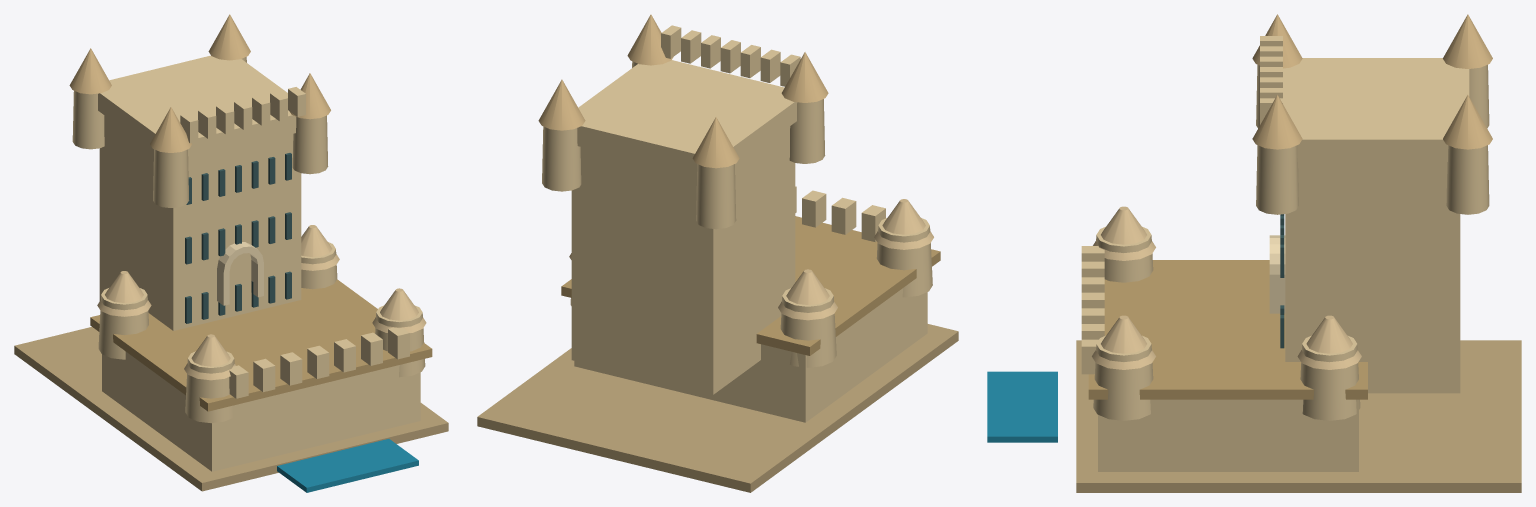
Rendered from belem-tower.glb.
The picture shows the model from 3 angles, left to right: view 1: azimuth 30°, elevation 25°; view 2: azimuth 150°, elevation 25°; view 3: azimuth 270°, elevation 25°; orthographic projection. The views are drawn at different scales.
Visible parts, largest first — view 1: body_D5C5A5, body_B9AA8C, base_C8B99A, battlements_D5C5A5, roof_C9BB9C, roof_C1B092, water_edge_6A9695, detail_6E7262, body_E6D7B9; view 2: body_D5C5A5, base_C8B99A, body_B9AA8C, battlements_D5C5A5, roof_C1B092, roof_C9BB9C; view 3: body_D5C5A5, base_C8B99A, body_B9AA8C, roof_C1B092, water_edge_6A9695, roof_C9BB9C, battlements_D5C5A5, body_E6D7B9.
Part boxes in pixels (x1=…): body_D5C5A5: x1=72, y1=55, x2=425, y2=471; body_B9AA8C: x1=90, y1=279, x2=432, y2=411; base_C8B99A: x1=14, y1=327, x2=448, y2=491; battlements_D5C5A5: x1=180, y1=87, x2=409, y2=398; roof_C9BB9C: x1=97, y1=225, x2=426, y2=380; roof_C1B092: x1=69, y1=14, x2=330, y2=152; water_edge_6A9695: x1=277, y1=439, x2=418, y2=492; detail_6E7262: x1=185, y1=153, x2=291, y2=323; body_E6D7B9: x1=217, y1=242, x2=263, y2=305; body_D5C5A5: x1=542, y1=60, x2=932, y2=422; base_C8B99A: x1=477, y1=324, x2=958, y2=492; body_B9AA8C: x1=561, y1=216, x2=940, y2=355; battlements_D5C5A5: x1=661, y1=25, x2=885, y2=241; roof_C1B092: x1=538, y1=14, x2=828, y2=168; roof_C9BB9C: x1=569, y1=199, x2=933, y2=320; body_D5C5A5: x1=1093, y1=58, x2=1489, y2=471; base_C8B99A: x1=1076, y1=340, x2=1521, y2=492; body_B9AA8C: x1=1088, y1=260, x2=1367, y2=399; roof_C1B092: x1=1252, y1=14, x2=1492, y2=149; water_edge_6A9695: x1=987, y1=371, x2=1057, y2=442; roof_C9BB9C: x1=1092, y1=206, x2=1361, y2=369; battlements_D5C5A5: x1=1081, y1=36, x2=1282, y2=374; body_E6D7B9: x1=1269, y1=235, x2=1285, y2=313.
Bounding box in the file's own units: 0.6322 × 0.7586 × 1.
